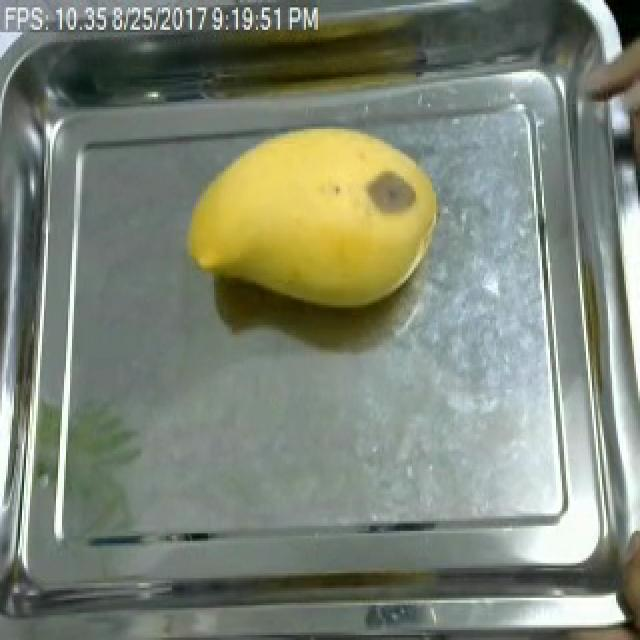fruit: (174, 109, 454, 323)
